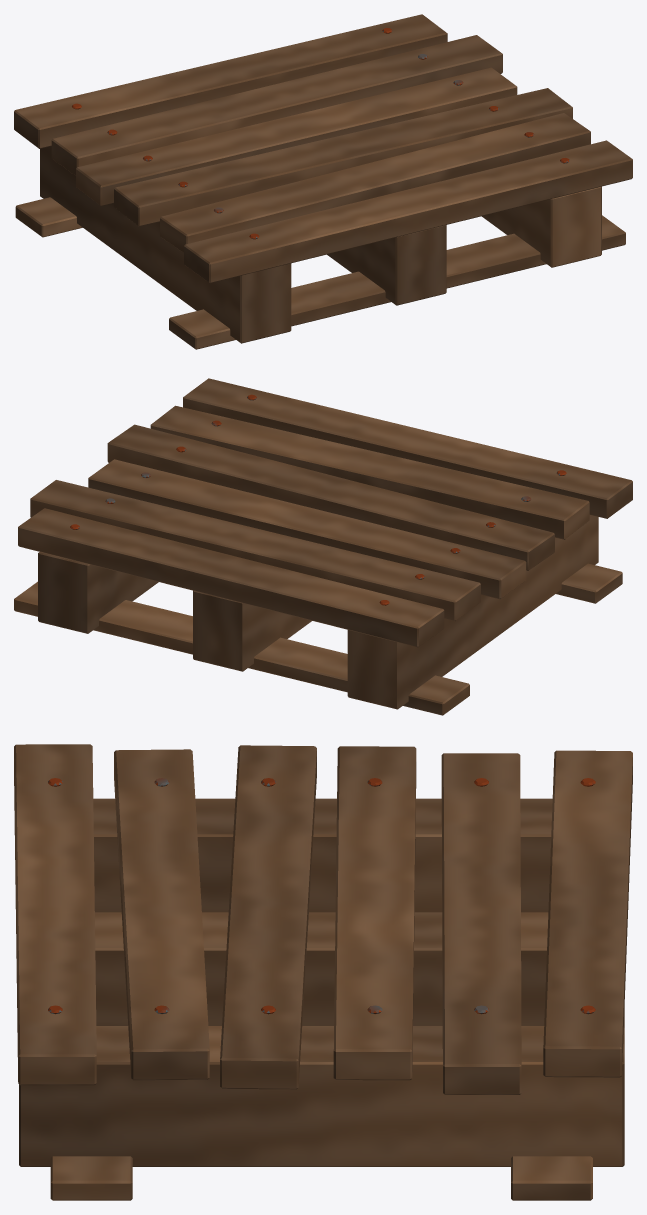
Rendered from pallet-17.glb.
3 views of the same model, one above another, from view 1: azimuth 30°, elevation 25°; view 2: azimuth 150°, elevation 25°; view 3: azimuth 270°, elevation 25° (orthographic). The views are drawn at different scales.
Parts seen in each view (by area): view 1: pallet-17; view 2: pallet-17; view 3: pallet-17.
Boxes of the visible parts, box(x1,y1,x2,y2) form: pallet-17: box(14, 14, 632, 349); pallet-17: box(14, 378, 632, 715); pallet-17: box(14, 744, 632, 1200).
Size of the model in its own units: 1.11 by 0.241 by 0.9056.
Materials: 2 (2 with a texture image).
